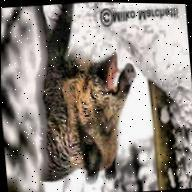boar: (26, 1, 145, 188)
